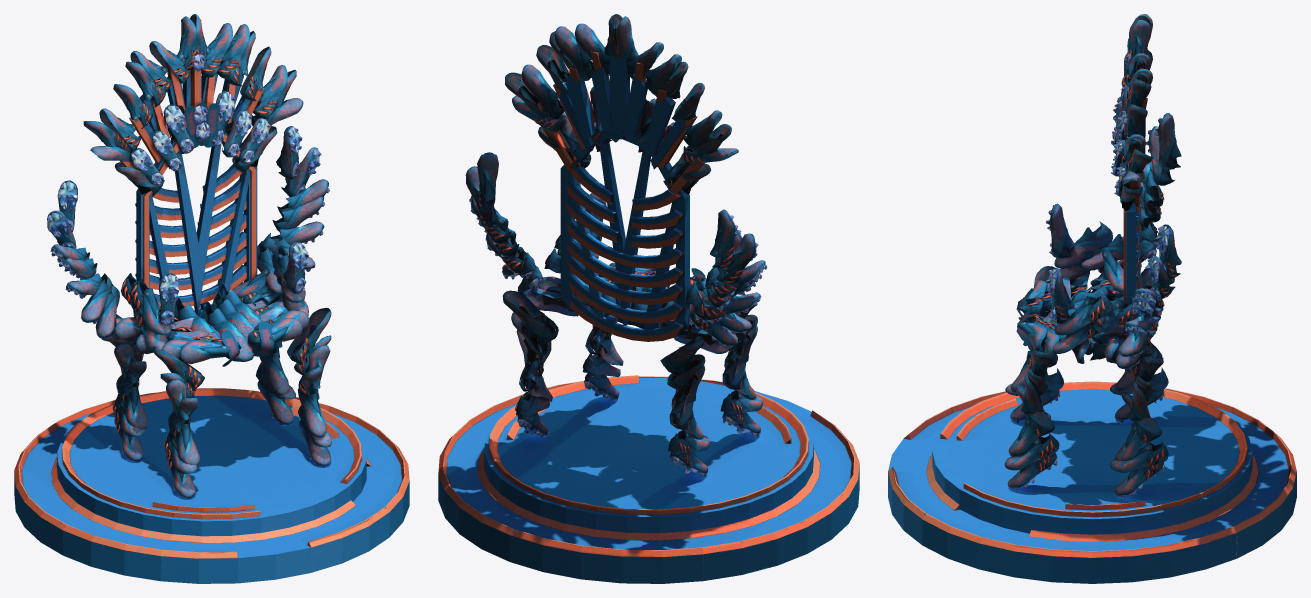
File: Trono_AdidasPredator.glb
The picture shows the model from 3 angles, left to right: view 1: azimuth 30°, elevation 25°; view 2: azimuth 150°, elevation 25°; view 3: azimuth 270°, elevation 25°; orthographic projection. The views are drawn at different scales.
Parts seen in each view (by area): view 1: Trono un MaterialLow; view 2: Trono un MaterialLow; view 3: Trono un MaterialLow.
Part boxes in pixels (x1=…): Trono un MaterialLow: x1=14, y1=14, x2=409, y2=583; Trono un MaterialLow: x1=438, y1=14, x2=859, y2=583; Trono un MaterialLow: x1=888, y1=14, x2=1296, y2=583.
Size of the model in its own units: 1.75 by 2.27 by 1.75.
Materials: 1 (1 with a texture image).
